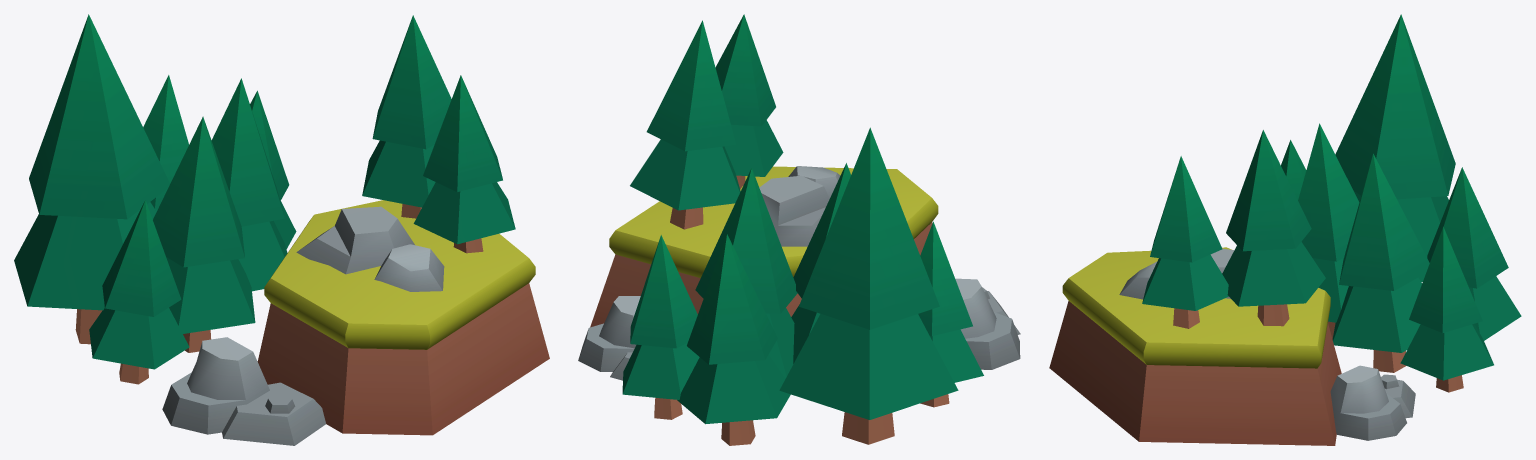
File: kaykit-medieval-hexagon-pack-hills-c-trees.glb
The picture shows the model from 3 angles, left to right: view 1: azimuth 30°, elevation 25°; view 2: azimuth 150°, elevation 25°; view 3: azimuth 270°, elevation 25°; orthographic projection. The views are drawn at different scales.
Visible parts, largest first — view 1: hills_C_trees; view 2: hills_C_trees; view 3: hills_C_trees.
Boxes of the visible parts, x1,y1,x2,y2 form: hills_C_trees: (14,14,549,445); hills_C_trees: (578,14,1020,445); hills_C_trees: (1049,14,1521,445).
Bounding box in the file's own units: 1.7 × 1.3 × 1.9.
Materials: 1 (1 with a texture image).
